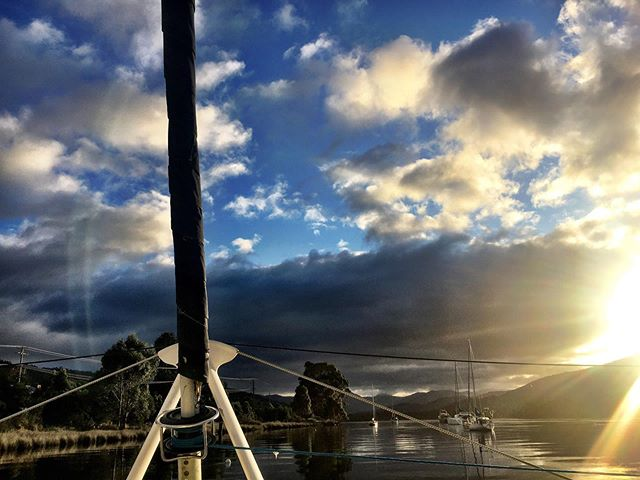boat: (458, 341, 501, 431)
river: (88, 421, 628, 480)
sky: (10, 1, 640, 345)
tree: (101, 338, 156, 433), (283, 357, 348, 418)
